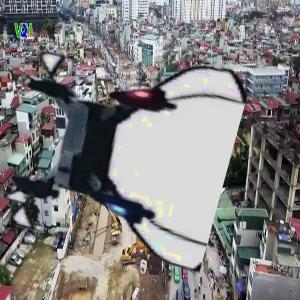drone: (4, 40, 230, 266)
